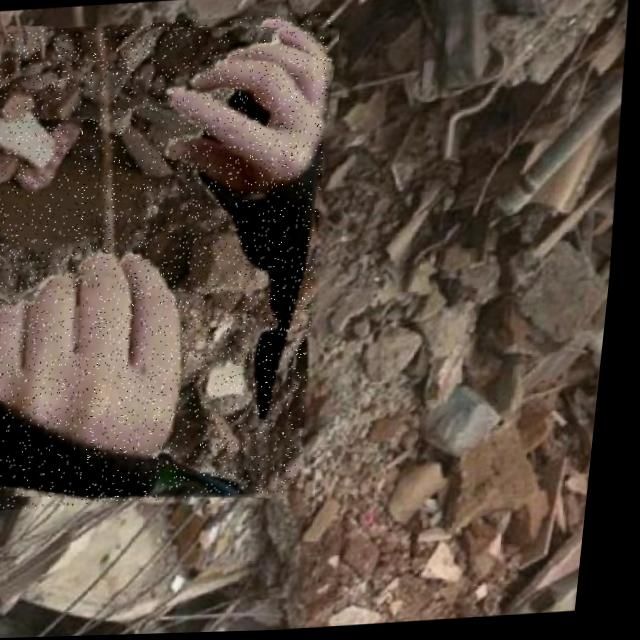Person in Rubble: (0, 12, 348, 513)
